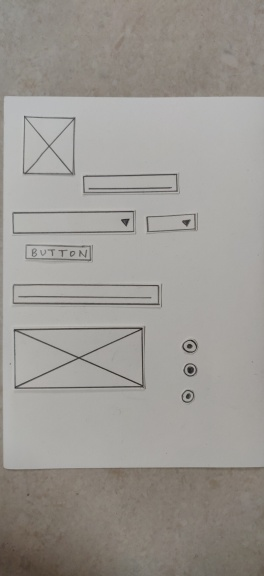button: (21, 241, 97, 266)
dropdown: (8, 208, 138, 238), (143, 209, 201, 236)
img: (9, 324, 150, 392), (19, 111, 78, 180)
radio: (178, 336, 201, 354), (180, 361, 202, 379), (178, 386, 197, 405)
text: (7, 279, 165, 309), (81, 171, 182, 197)
